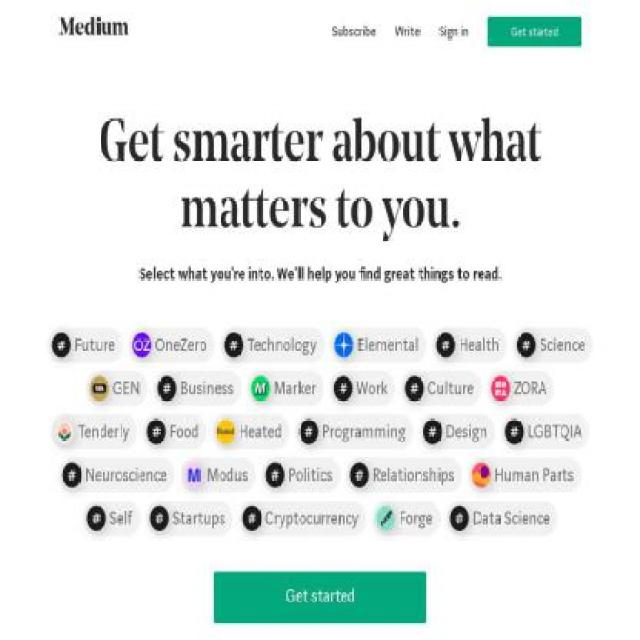button: (214, 571, 426, 624), (488, 17, 582, 46)
